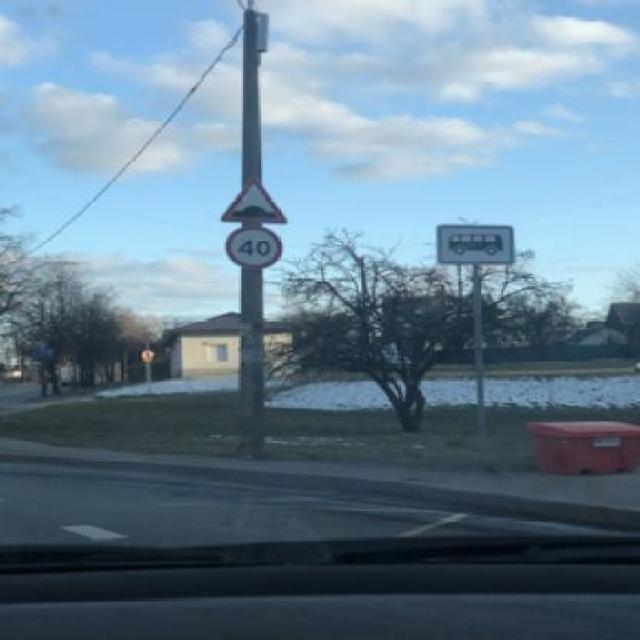forb_speed_over_40: (228, 226, 284, 269)
